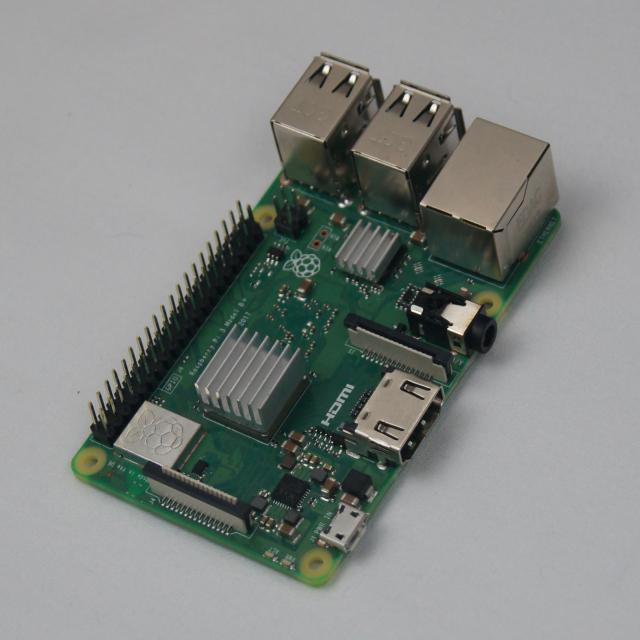Raspberry Pi 3 B-: (72, 55, 560, 586)
